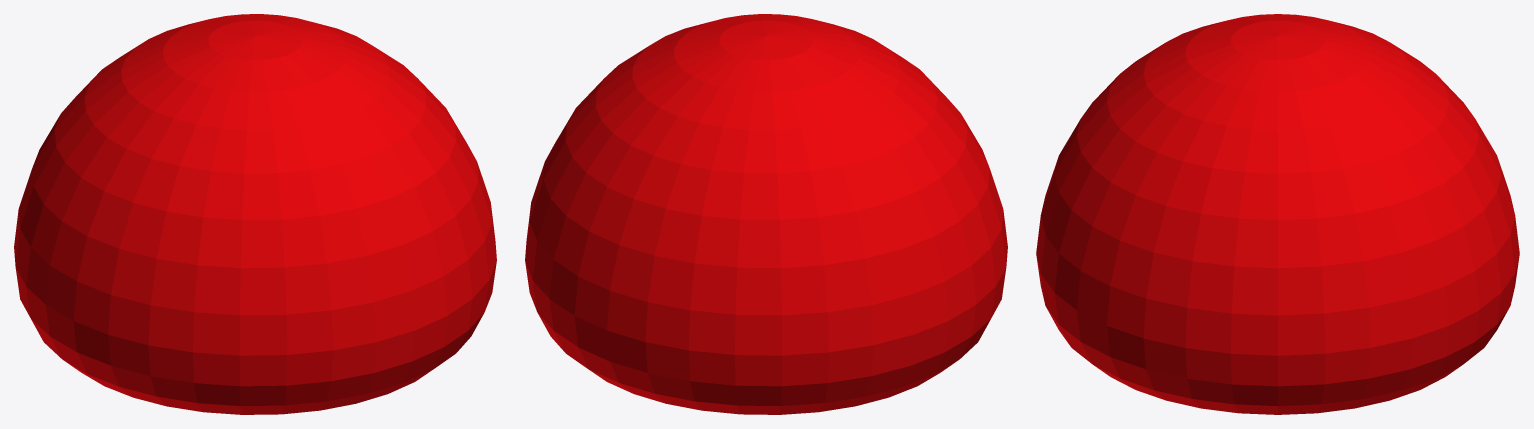
The model's file is BossSlimeFlat.fbx.
3 views of the same model, side by side, from view 1: azimuth 30°, elevation 25°; view 2: azimuth 150°, elevation 25°; view 3: azimuth 270°, elevation 25° (orthographic).
Visible parts, largest first — view 1: Sphere; view 2: Sphere; view 3: Sphere.
Part boxes in pixels (box(x1,y1,x2,y2)): Sphere: box(14, 14, 496, 414); Sphere: box(525, 14, 1007, 414); Sphere: box(1036, 14, 1519, 414).
Size of the model in its own units: 4.64 by 3.29 by 4.64.
